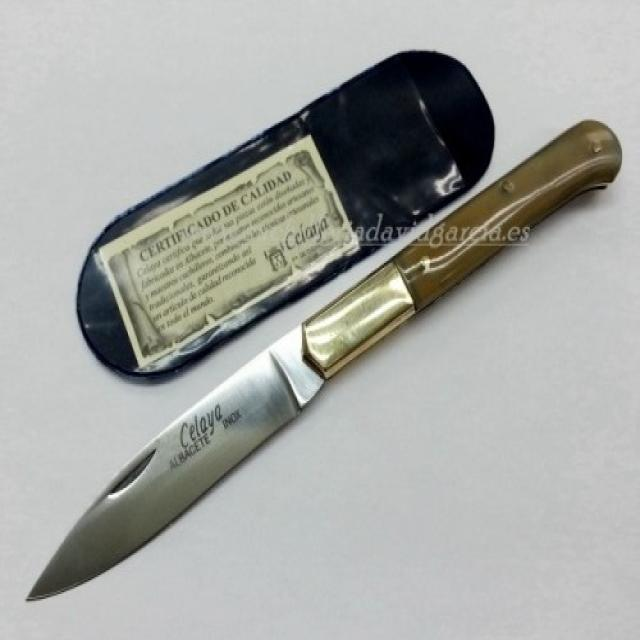knife: (20, 115, 625, 608)
